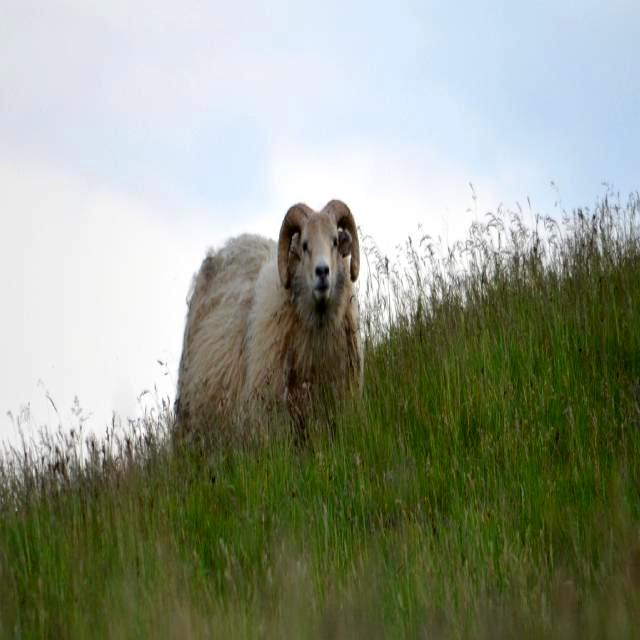sheep: (173, 199, 364, 432)
